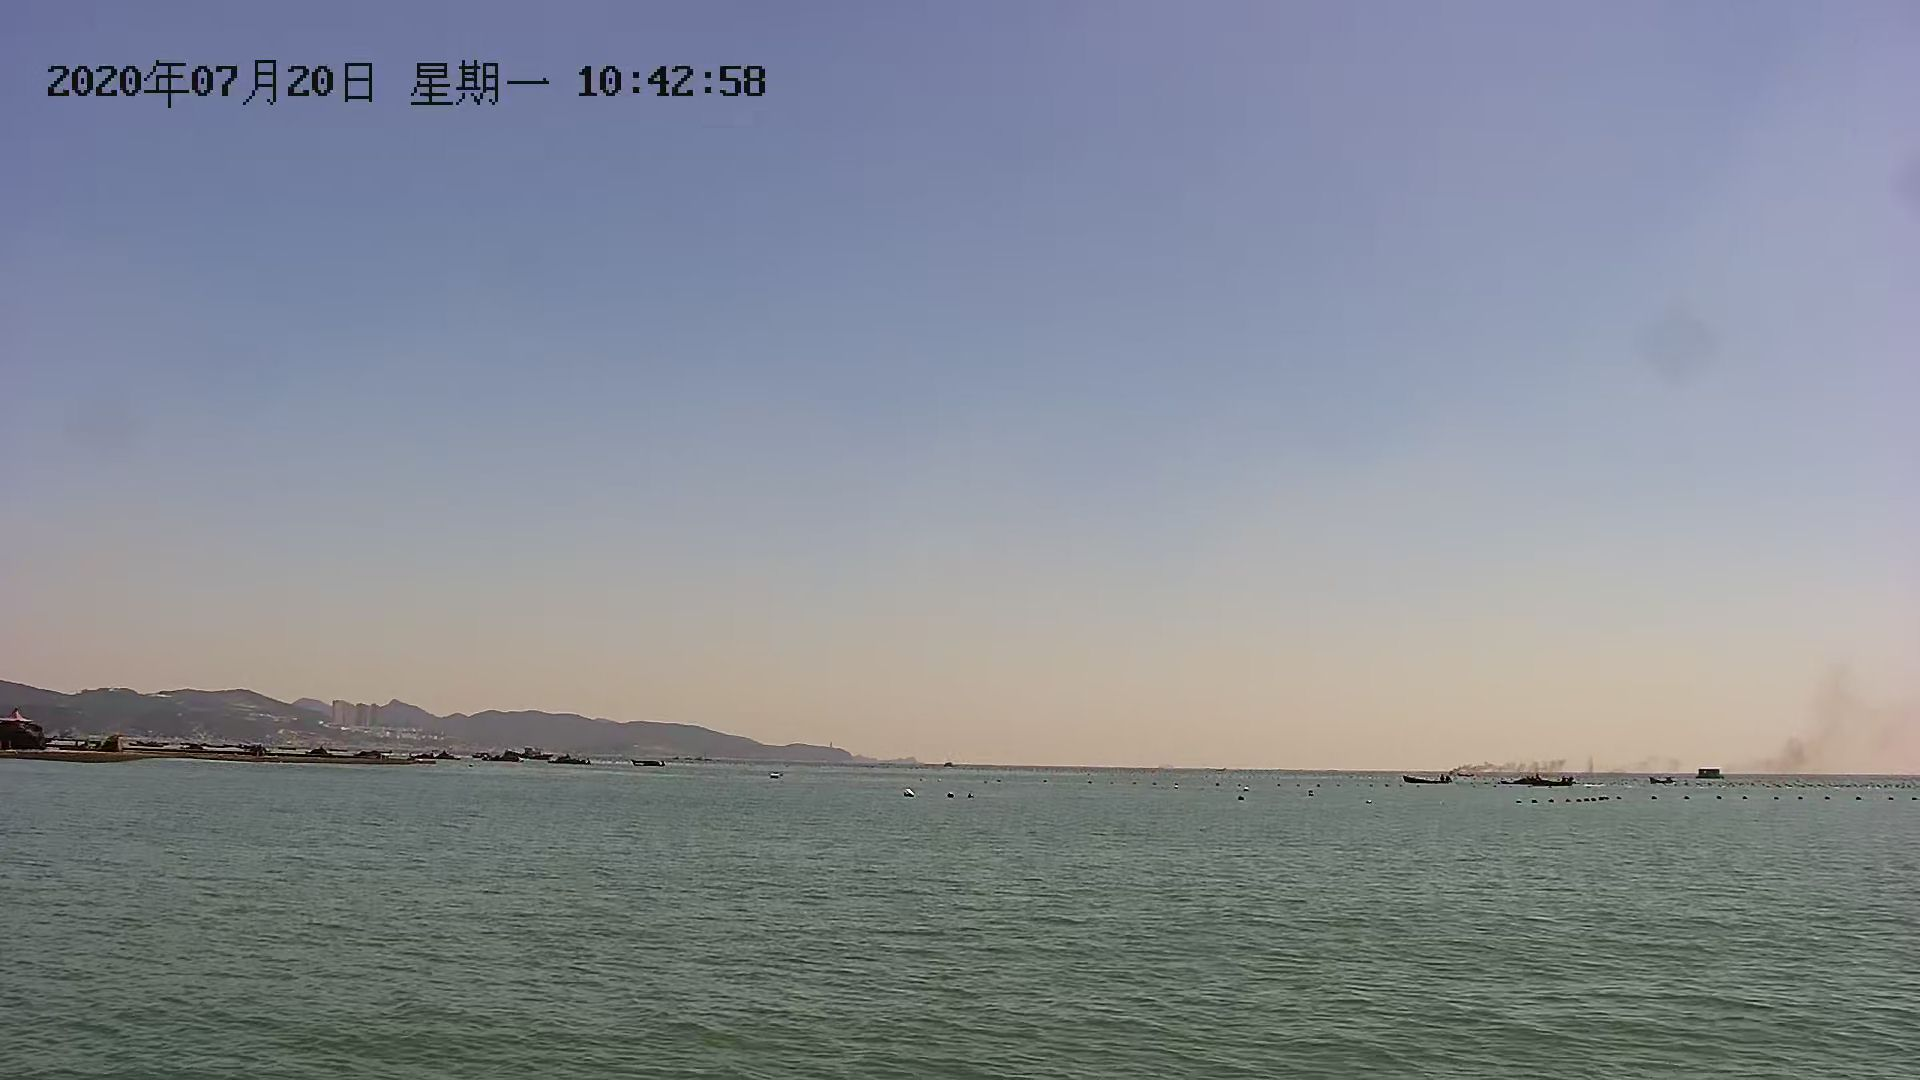boat: (1400, 770, 1455, 789)
platform: (1693, 764, 1729, 785)
rubbish: (1513, 775, 1561, 791), (483, 746, 525, 761), (547, 754, 591, 767)
